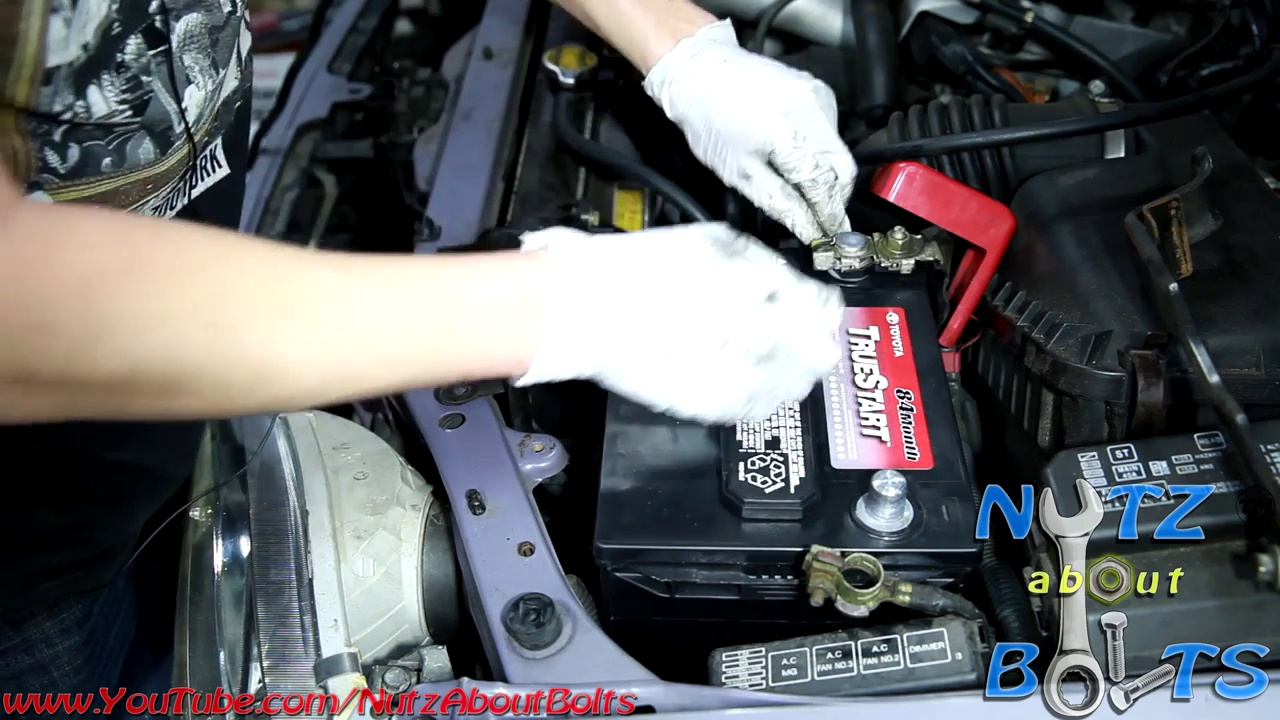battery: (607, 169, 1009, 623)
neg_disconnected: (812, 463, 929, 615)
pos_connected: (807, 203, 1012, 316)
pos_touched: (763, 122, 1002, 328)
